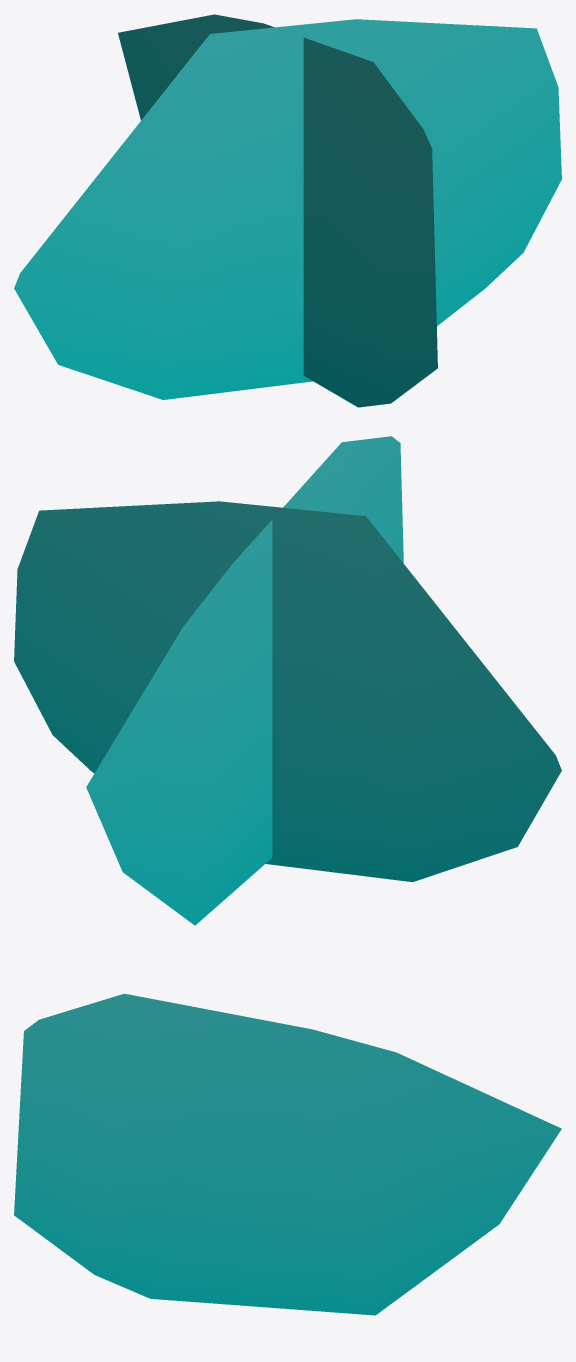
Rendered from Downy_Willow_wknlfiuqx_Mid_wknlfiuqx_VarF_LOD3.fbx.
3 views of the same model, one above another, from view 1: azimuth 30°, elevation 25°; view 2: azimuth 150°, elevation 25°; view 3: azimuth 270°, elevation 25° (orthographic). The views are drawn at different scales.
Parts seen in each view (by area): view 1: _ps2u_VarF_LOD6; view 2: _ps2u_VarF_LOD6; view 3: _ps2u_VarF_LOD6.
Part boxes in pixels (x1,y1,x2,y2): _ps2u_VarF_LOD6: [14, 14, 561, 407]; _ps2u_VarF_LOD6: [14, 436, 561, 925]; _ps2u_VarF_LOD6: [14, 993, 561, 1315].
Bounding box in the file's own units: 190 × 125 × 192.
